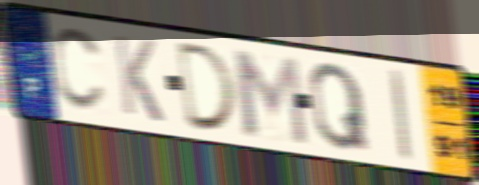C: (48, 26, 107, 115)
D: (175, 39, 242, 135)
I: (387, 67, 415, 164)
K: (111, 31, 167, 127)
M: (228, 45, 312, 148)
Q: (306, 60, 373, 155)
